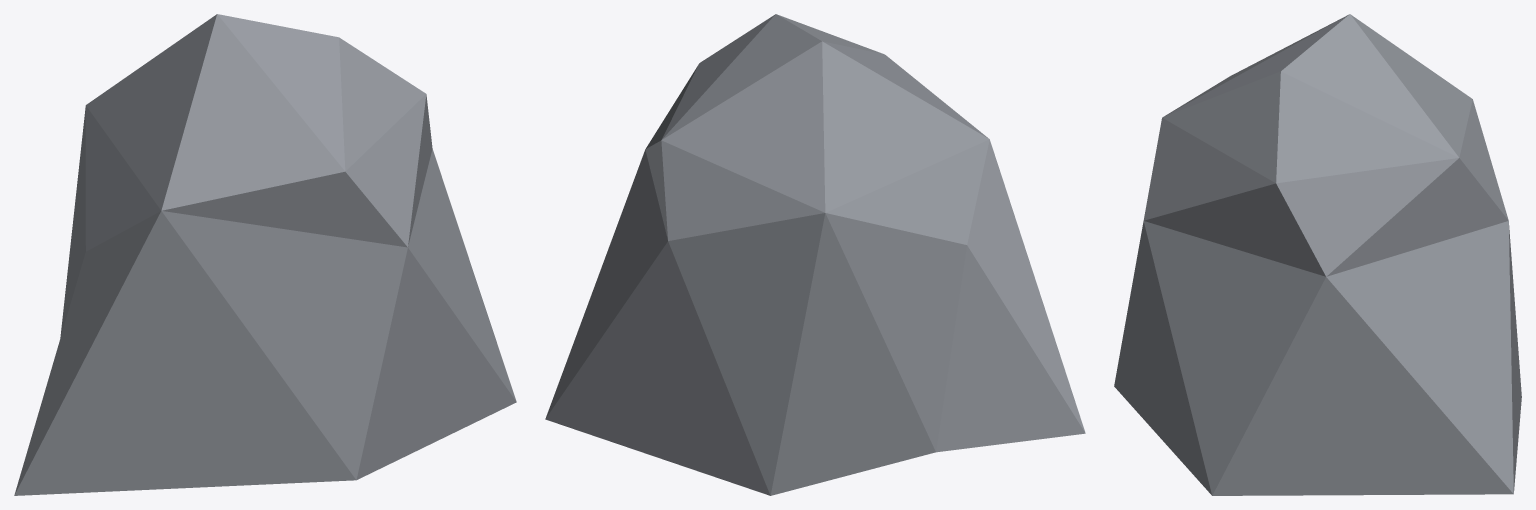
The model's file is Rock_v12.fbx.
The picture shows the model from 3 angles, left to right: view 1: azimuth 30°, elevation 25°; view 2: azimuth 150°, elevation 25°; view 3: azimuth 270°, elevation 25°; orthographic projection. The views are drawn at different scales.
Visible parts, largest first — view 1: Rock_v12; view 2: Rock_v12; view 3: Rock_v12.
Boxes of the visible parts, x1,y1,x2,y2 form: Rock_v12: (14, 14, 516, 495); Rock_v12: (545, 14, 1085, 495); Rock_v12: (1114, 14, 1521, 495).
Size of the model in its own units: 41.24 by 35.4 by 32.22.
1 material, 1 textured.
